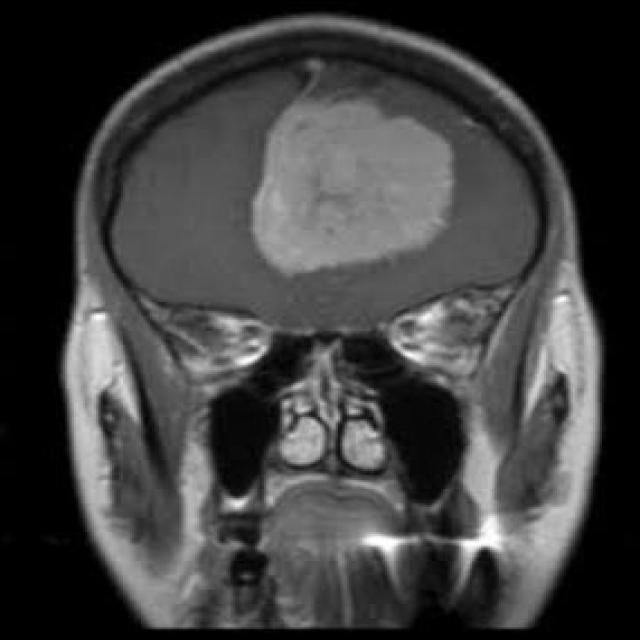brain_tumor: (252, 100, 454, 274)
